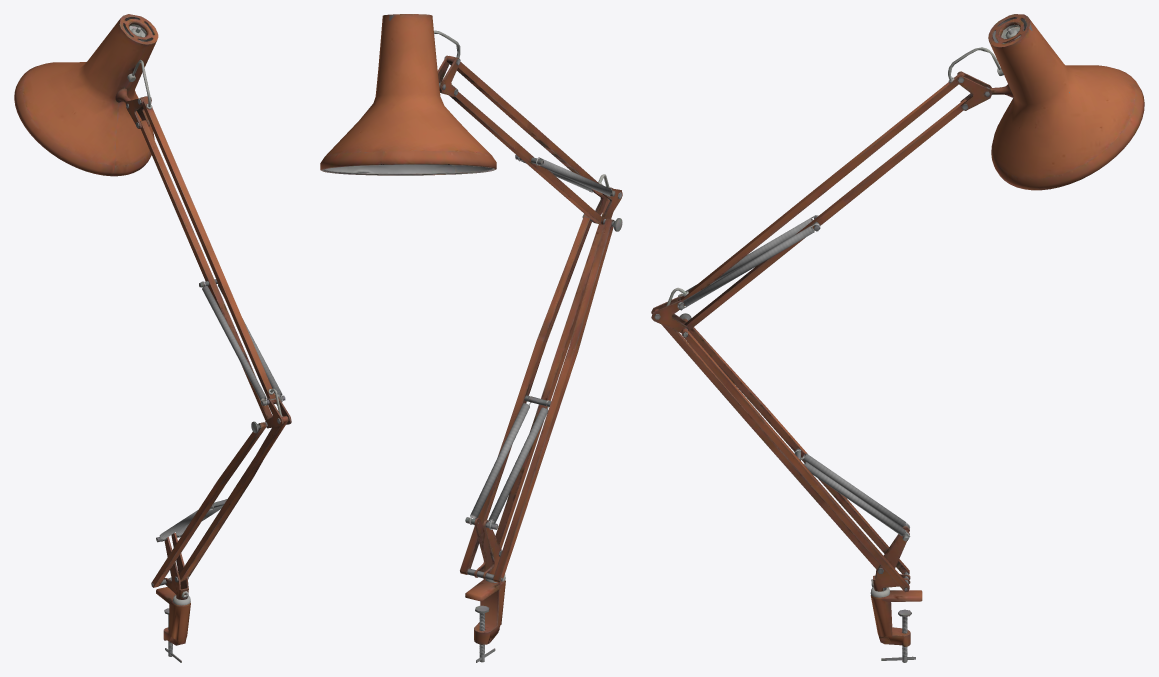
Rendered from lamp.glb.
3 renders of one model, left to right at view 1: azimuth 30°, elevation 25°; view 2: azimuth 150°, elevation 25°; view 3: azimuth 270°, elevation 25°, orthographic. The views are drawn at different scales.
Visible parts, largest first — view 1: desk_lamp_arm_01; view 2: desk_lamp_arm_01; view 3: desk_lamp_arm_01.
Part boxes in pixels (x1=…): desk_lamp_arm_01: x1=14, y1=14, x2=291, y2=662; desk_lamp_arm_01: x1=320, y1=14, x2=622, y2=662; desk_lamp_arm_01: x1=651, y1=14, x2=1144, y2=662.
Size of the model in its own units: 0.2017 by 0.8926 by 0.6139.
Materials: 1 (1 with a texture image).
